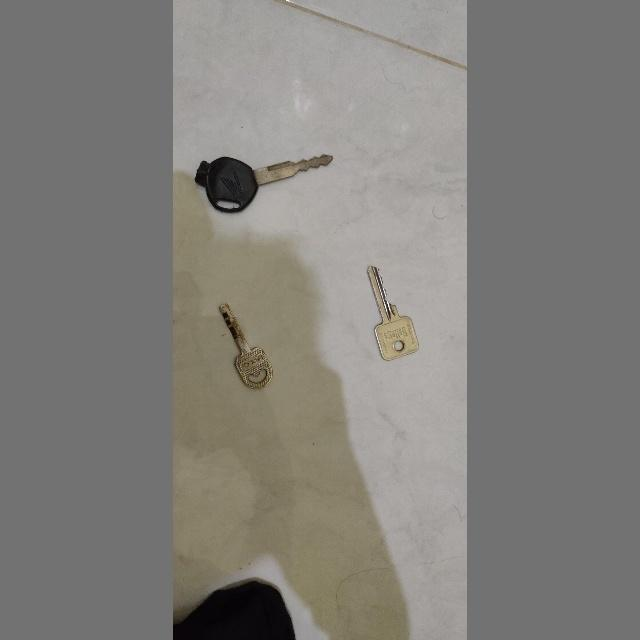Keys: (185, 146, 343, 218), (364, 260, 424, 368), (213, 302, 280, 391)
